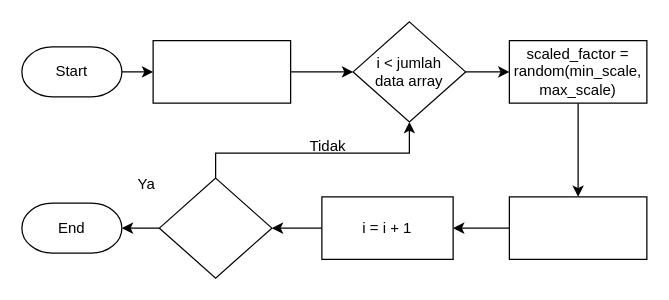
Some shapes in this 669 by 300 pixel diagram are drawn without their labels. The box of each missing label's shape, as (x1, y1, x2, y2) in pixels:
i = 0 min_scale = 0.8 max_scale = 1.2: (152, 39, 291, 103)
i > jumlah data array: (158, 177, 272, 278)
scaled_trace[i] = data[i].scaled_factor: (508, 196, 647, 259)
